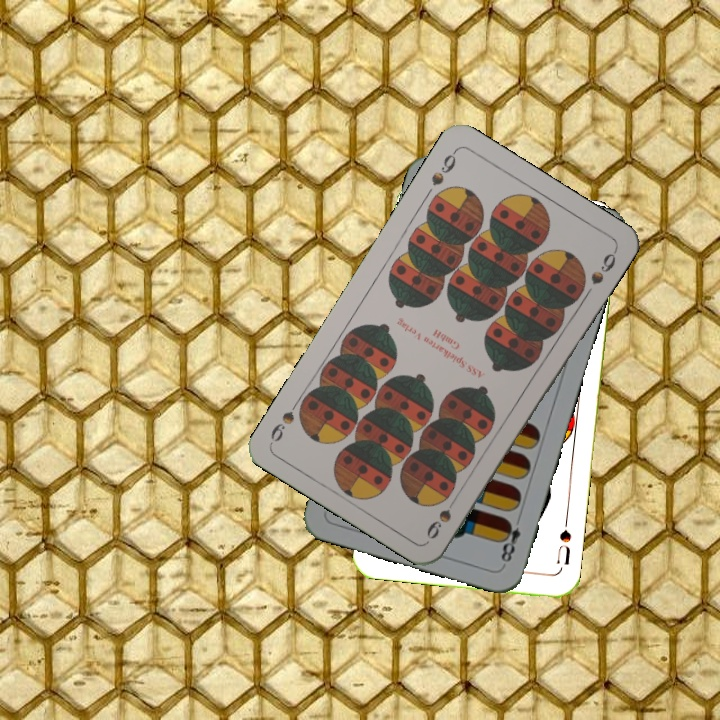E8: (496, 511, 524, 568)
S9: (422, 490, 462, 542), (427, 146, 460, 189)
SU: (552, 514, 574, 568)
